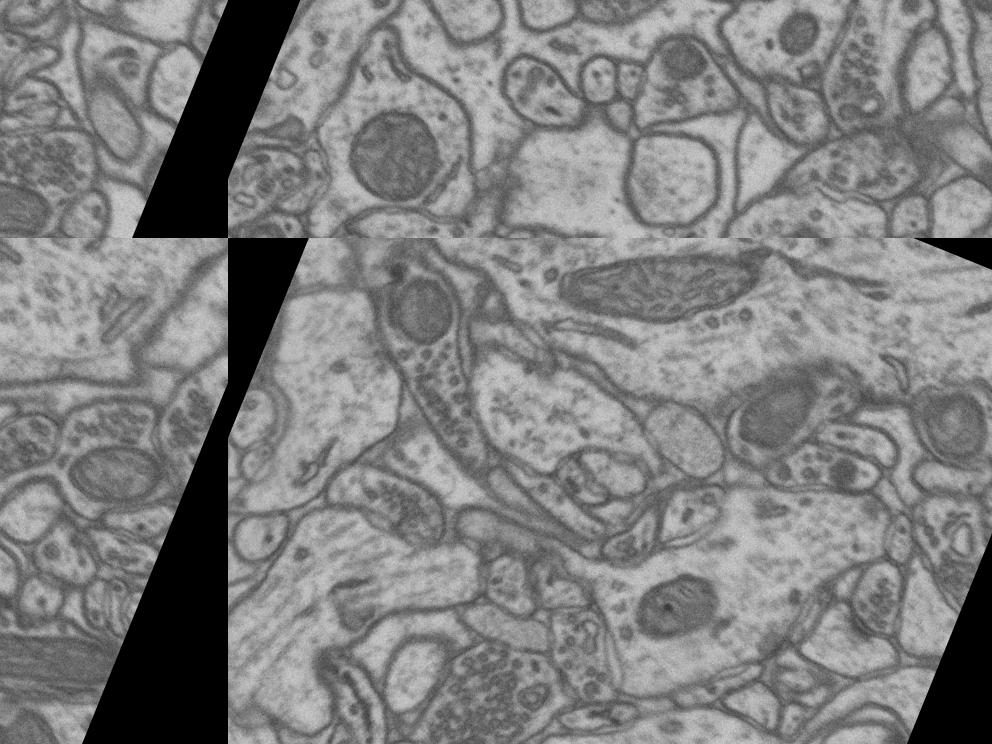mitochondria: (542, 238, 786, 385), (324, 82, 470, 232), (0, 581, 124, 733), (720, 344, 841, 476), (61, 422, 195, 540), (363, 255, 484, 370), (612, 552, 728, 670), (263, 0, 375, 110), (894, 368, 992, 477), (641, 23, 730, 108), (733, 194, 887, 238), (0, 676, 94, 744), (850, 115, 928, 196), (0, 158, 62, 238), (766, 0, 837, 67), (228, 202, 305, 238)
